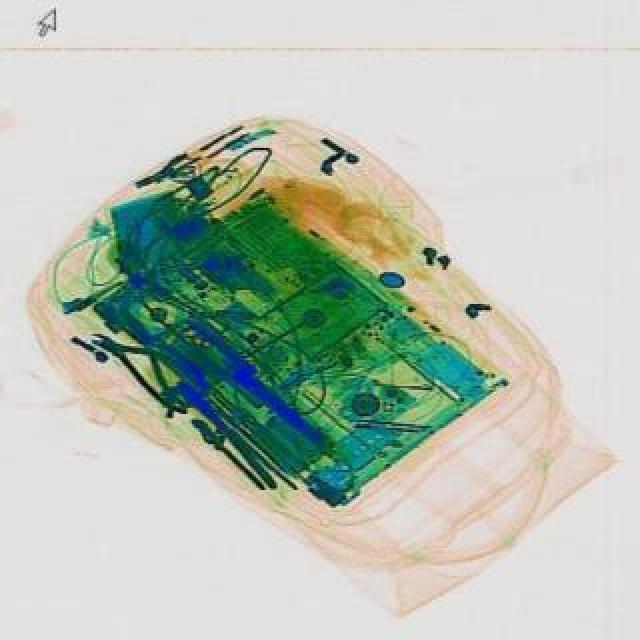wrench: (78, 314, 216, 418)
